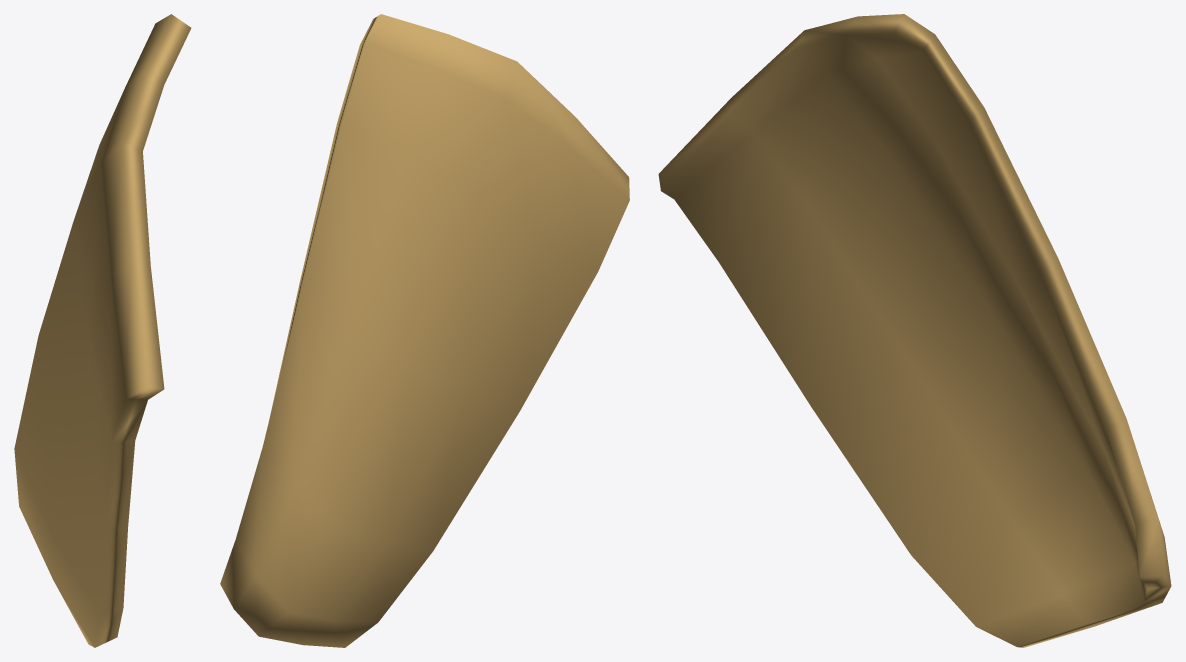
The picture shows the model from 3 angles, left to right: view 1: azimuth 30°, elevation 25°; view 2: azimuth 150°, elevation 25°; view 3: azimuth 270°, elevation 25°; orthographic projection. The views are drawn at different scales.
Parts seen in each view (by area): view 1: 左侧距跟内侧韧带; view 2: 左侧距跟内侧韧带; view 3: 左侧距跟内侧韧带.
Part boxes in pixels (x1,y1,x2,y2): 左侧距跟内侧韧带: (14,14,191,647); 左侧距跟内侧韧带: (220,14,629,647); 左侧距跟内侧韧带: (658,14,1171,647).
Bounding box in the file's own units: 0.00723 × 0.0218 × 0.0157.
